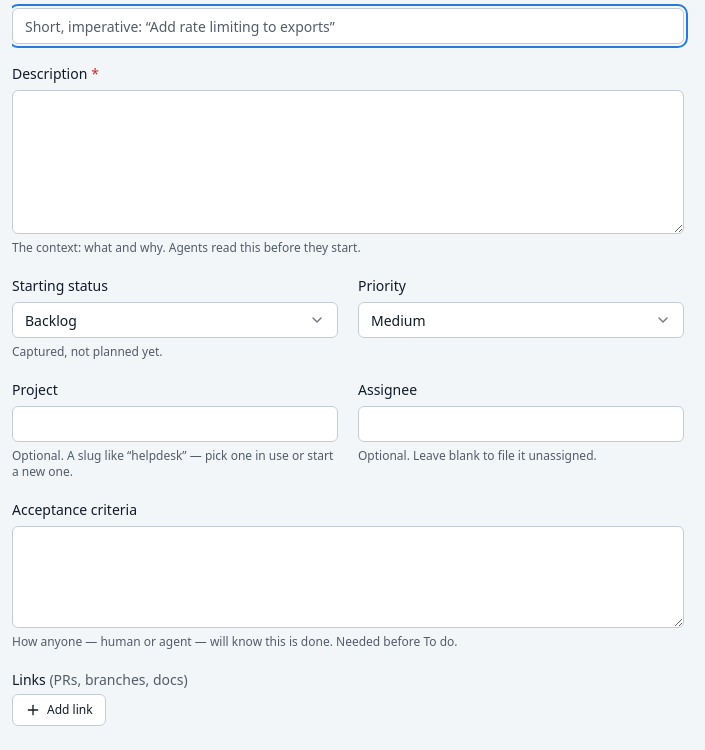
Test: TaskForm — validation comes from the contract schema › shows the schema's own message for a too-short title
Type "abc" into the field labelled "Title*" at (348, 26), box [12,8,684,44]
(page scrolled)
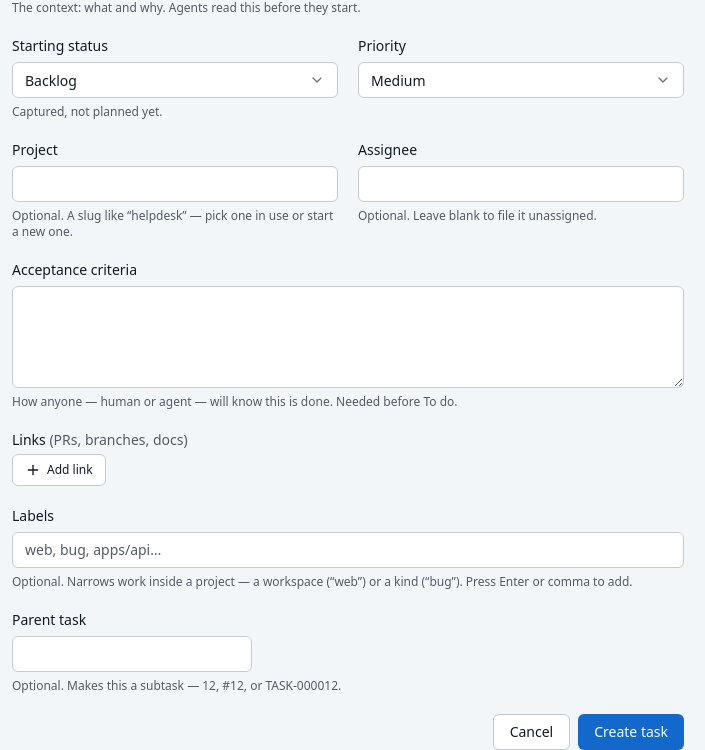
Click the button "Create task" at (631, 732), box [578,714,684,749]
(page scrolled)
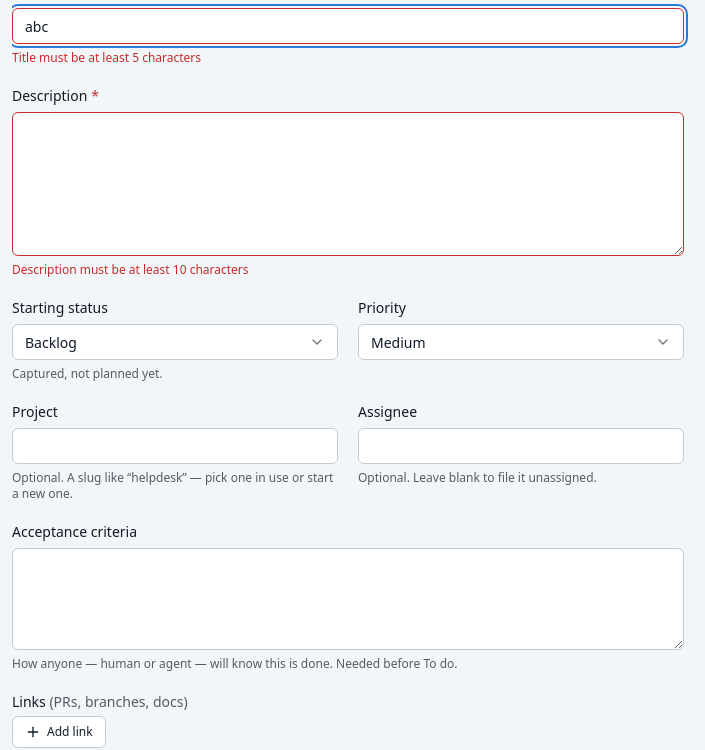
Now the text "Title must be at least 5 characters" is shown, box [12,49,201,66]
